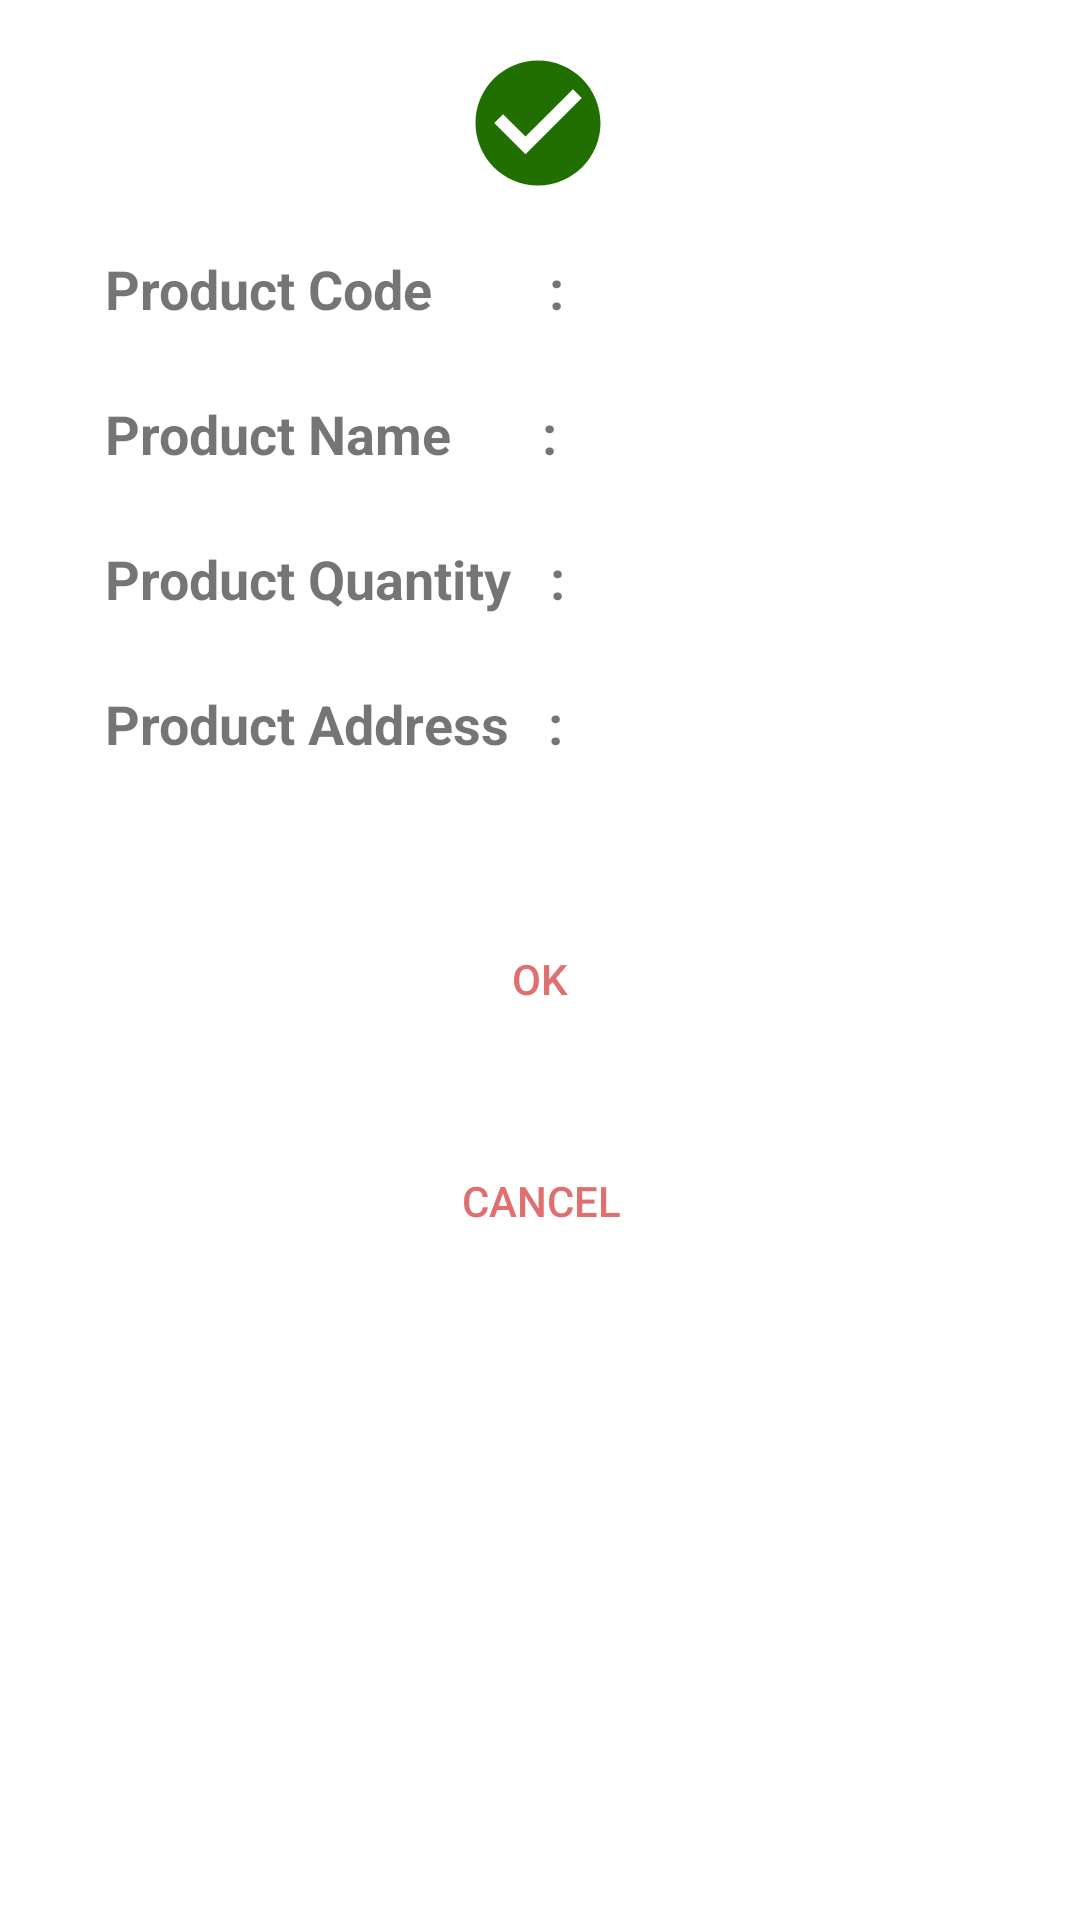

Icons on this 1080px x 1920px Android screen, each with its box as (x1, y1, x2, y2):
check circle: (475, 60, 601, 186)
